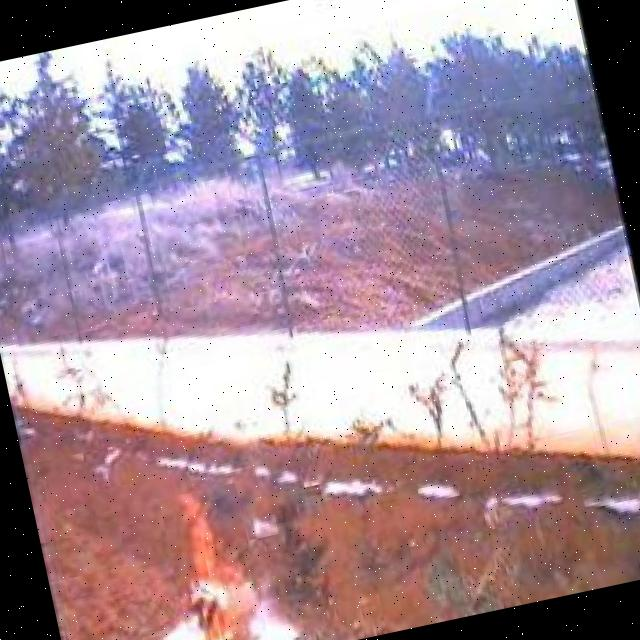fire: (159, 482, 268, 640)
